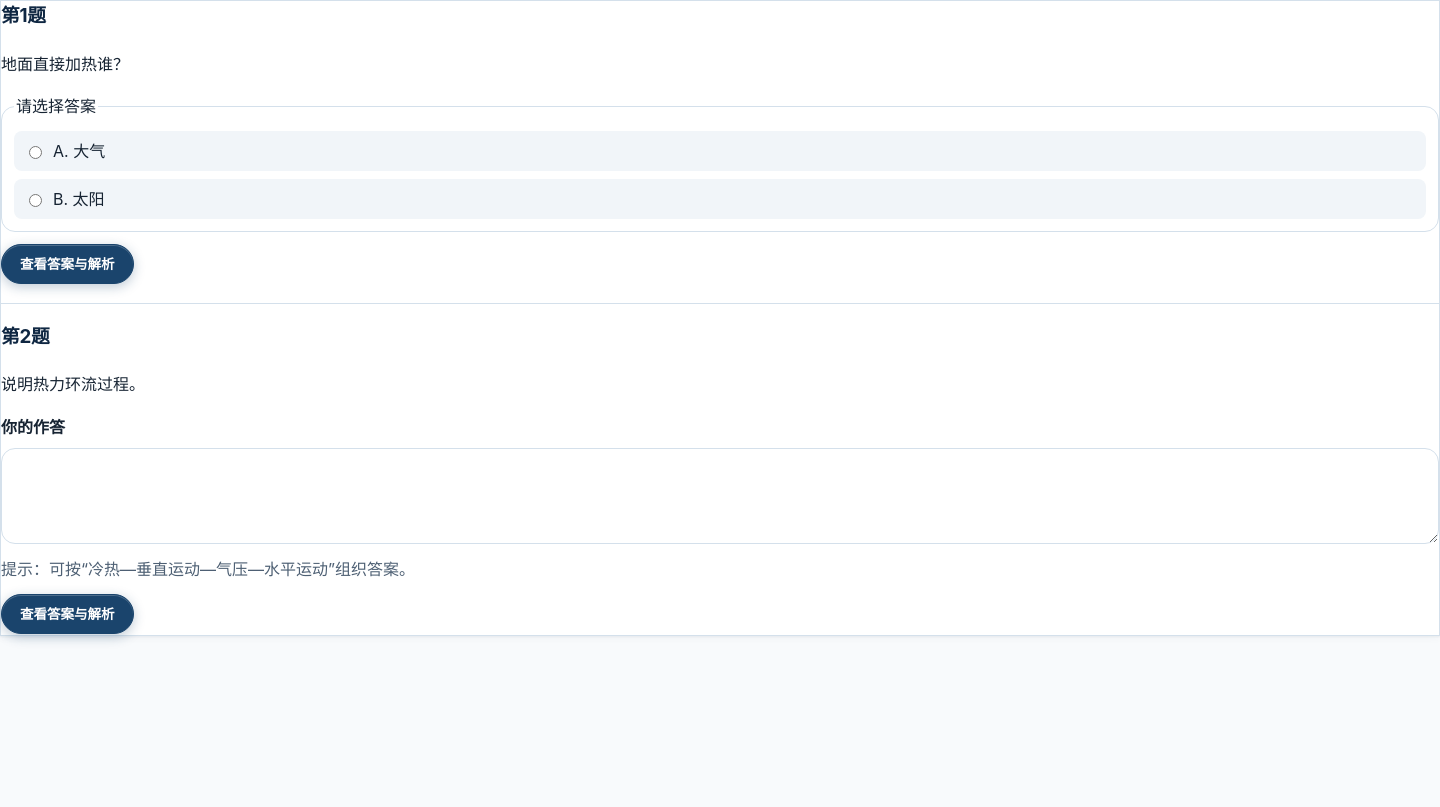
PracticePanel › marks an incorrect choice and explains the error
What coordinates should you click on to do the following:
click the radio button labelled "B. 太阳"
I would click on:
 (36, 201)
Its box is x1=29 y1=194 x2=42 y2=207.
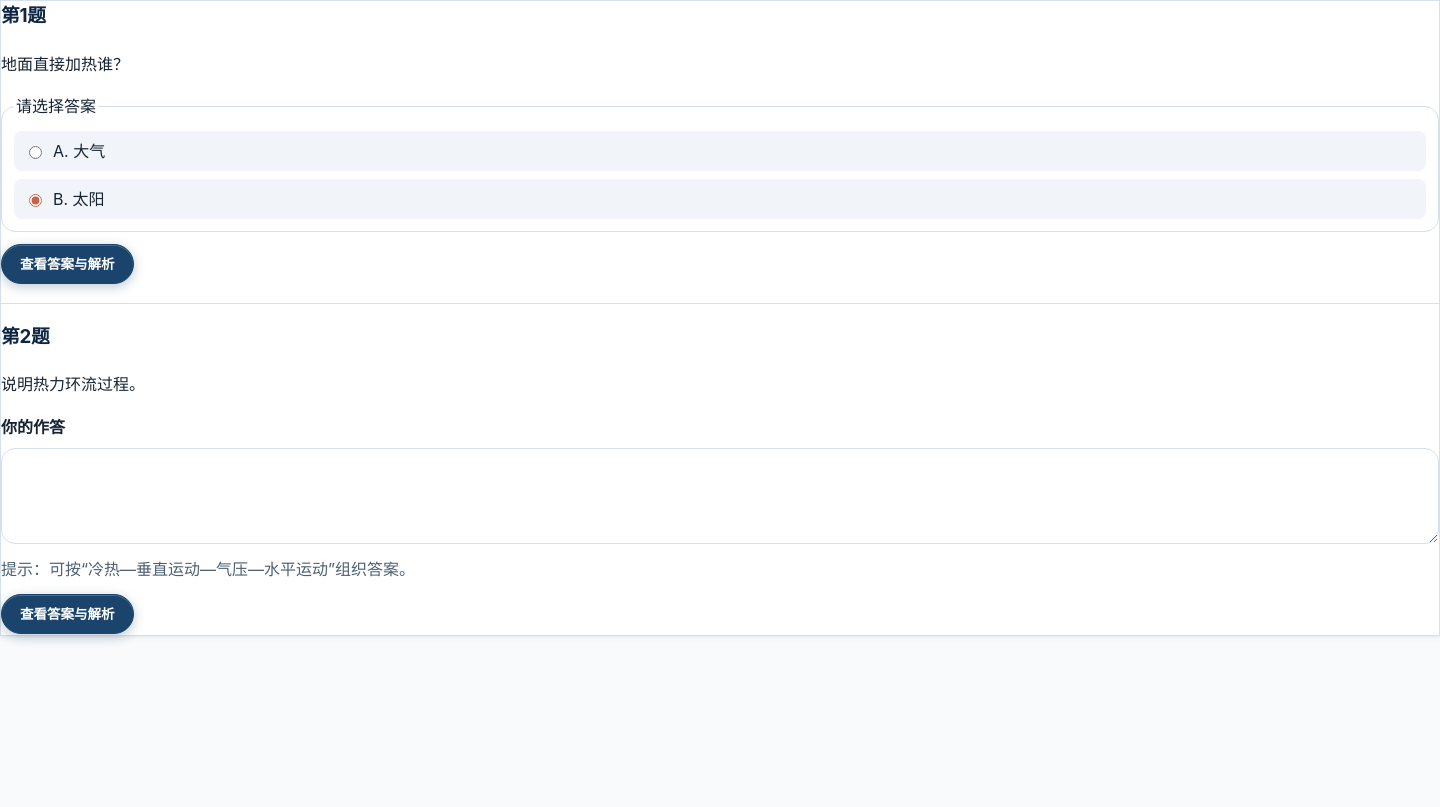
What coordinates should you click on to do the following:
click the button "查看答案与解析" below "B. 太阳"
I would click on:
 (67, 265)
Its box is x1=1 y1=244 x2=134 y2=285.
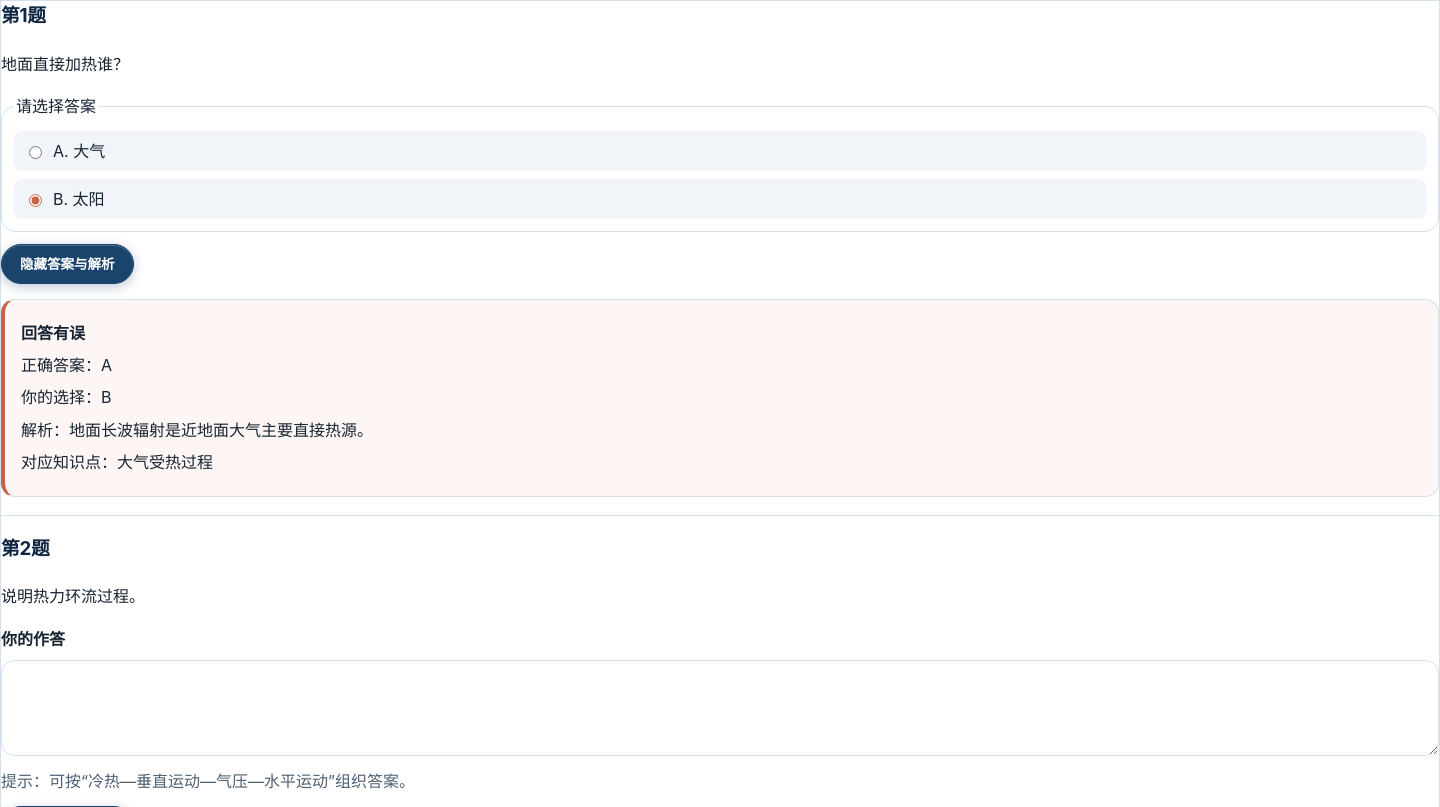
expect the message "回答有误 正确答案：A 你的选择：B 解析：地面长波辐射是近地面大气主要直接热源。 对应知识点：大气受热过程" is shown: met, box x1=1 y1=299 x2=1439 y2=497
